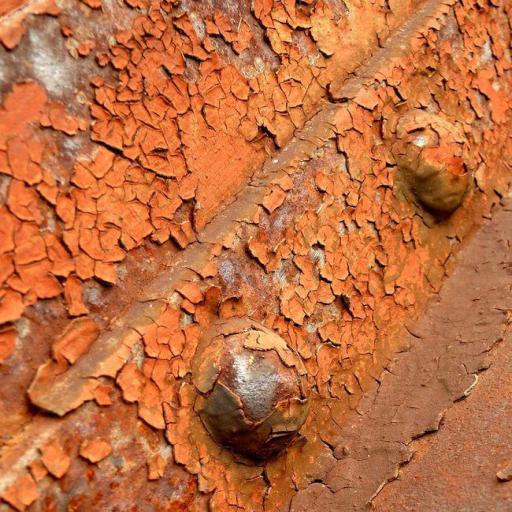segmentation: (1, 1, 511, 511)
